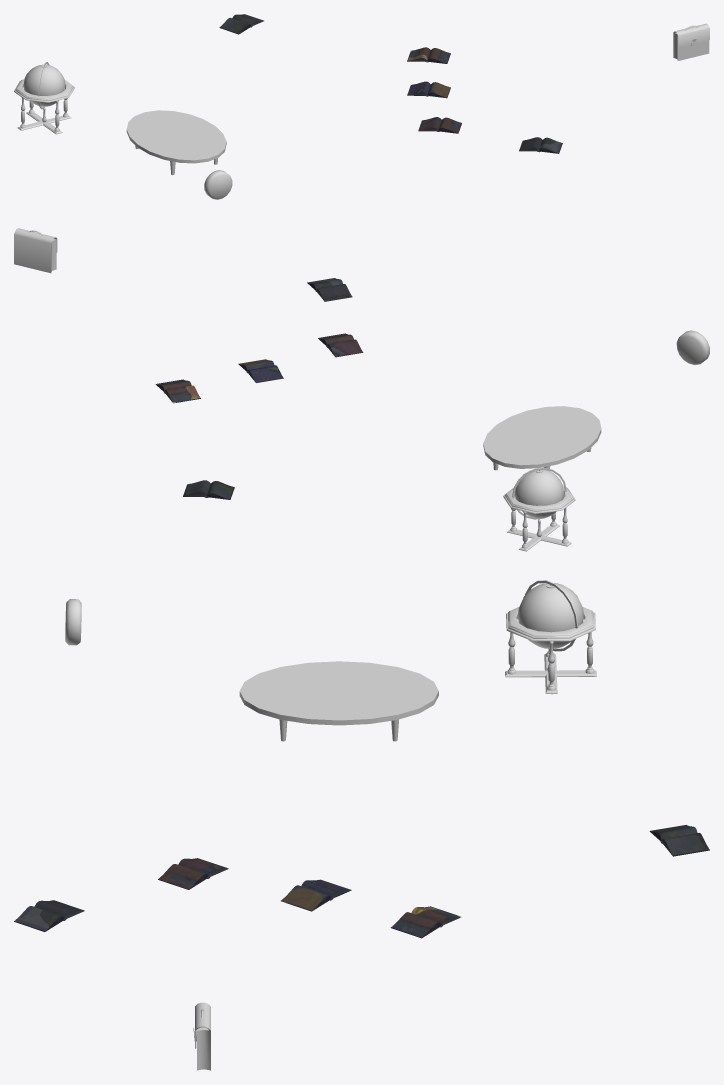
The model's file is Cussion_Books_Globe_RoundTable.fbx.
3 renders of one model, top to bottom at view 1: azimuth 30°, elevation 25°; view 2: azimuth 150°, elevation 25°; view 3: azimuth 270°, elevation 25°, orthographic. The views are drawn at different scales.
Visible parts, largest first — view 1: Round Table, Globe, Briefcase, Cussion, Book.003, Book.005, Book.002, Book.004, Book.001; view 2: Round Table, Globe, Briefcase, Cussion, Book.001, Book.003, Book.004, Book.002, Book.005; view 3: Round Table, Globe, Book.004, Book.003, Book.005, Book.002, Book.001, Briefcase.
Part boxes in pixels (bbox=[...]): Round Table: bbox=[126, 110, 226, 175]; Globe: bbox=[14, 62, 74, 134]; Briefcase: bbox=[673, 23, 709, 60]; Cussion: bbox=[204, 170, 232, 199]; Book.003: bbox=[418, 117, 461, 133]; Book.005: bbox=[407, 47, 450, 63]; Book.002: bbox=[519, 137, 562, 153]; Book.004: bbox=[407, 81, 450, 98]; Book.001: bbox=[219, 14, 263, 34]; Round Table: bbox=[483, 406, 601, 470]; Globe: bbox=[503, 467, 575, 551]; Briefcase: bbox=[14, 228, 57, 273]; Cussion: bbox=[676, 330, 709, 365]; Book.001: bbox=[183, 480, 234, 499]; Book.003: bbox=[318, 333, 363, 357]; Book.004: bbox=[238, 359, 283, 382]; Book.002: bbox=[307, 278, 352, 301]; Book.005: bbox=[155, 379, 200, 403]; Round Table: bbox=[239, 661, 438, 741]; Globe: bbox=[505, 580, 596, 694]; Book.004: bbox=[281, 879, 351, 911]; Book.003: bbox=[158, 858, 228, 889]; Book.005: bbox=[390, 906, 461, 938]; Book.002: bbox=[14, 900, 84, 931]; Book.001: bbox=[649, 825, 709, 856]; Briefcase: bbox=[193, 1002, 210, 1070].
Bounding box in the file's own units: 3151 × 313 × 2094.
